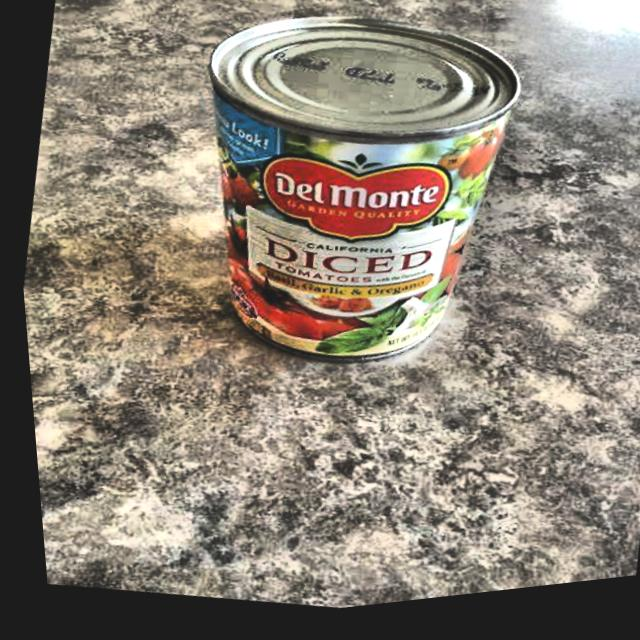Cans: (156, 0, 546, 404)
